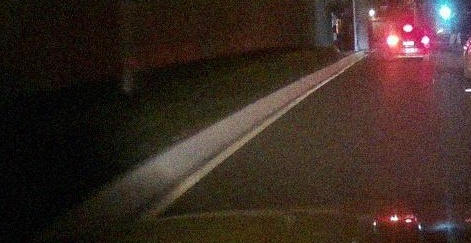L_light: (388, 38, 399, 43)
R_light: (420, 38, 429, 43)
T_light: (403, 26, 412, 29)
night-left: (386, 23, 430, 61)
